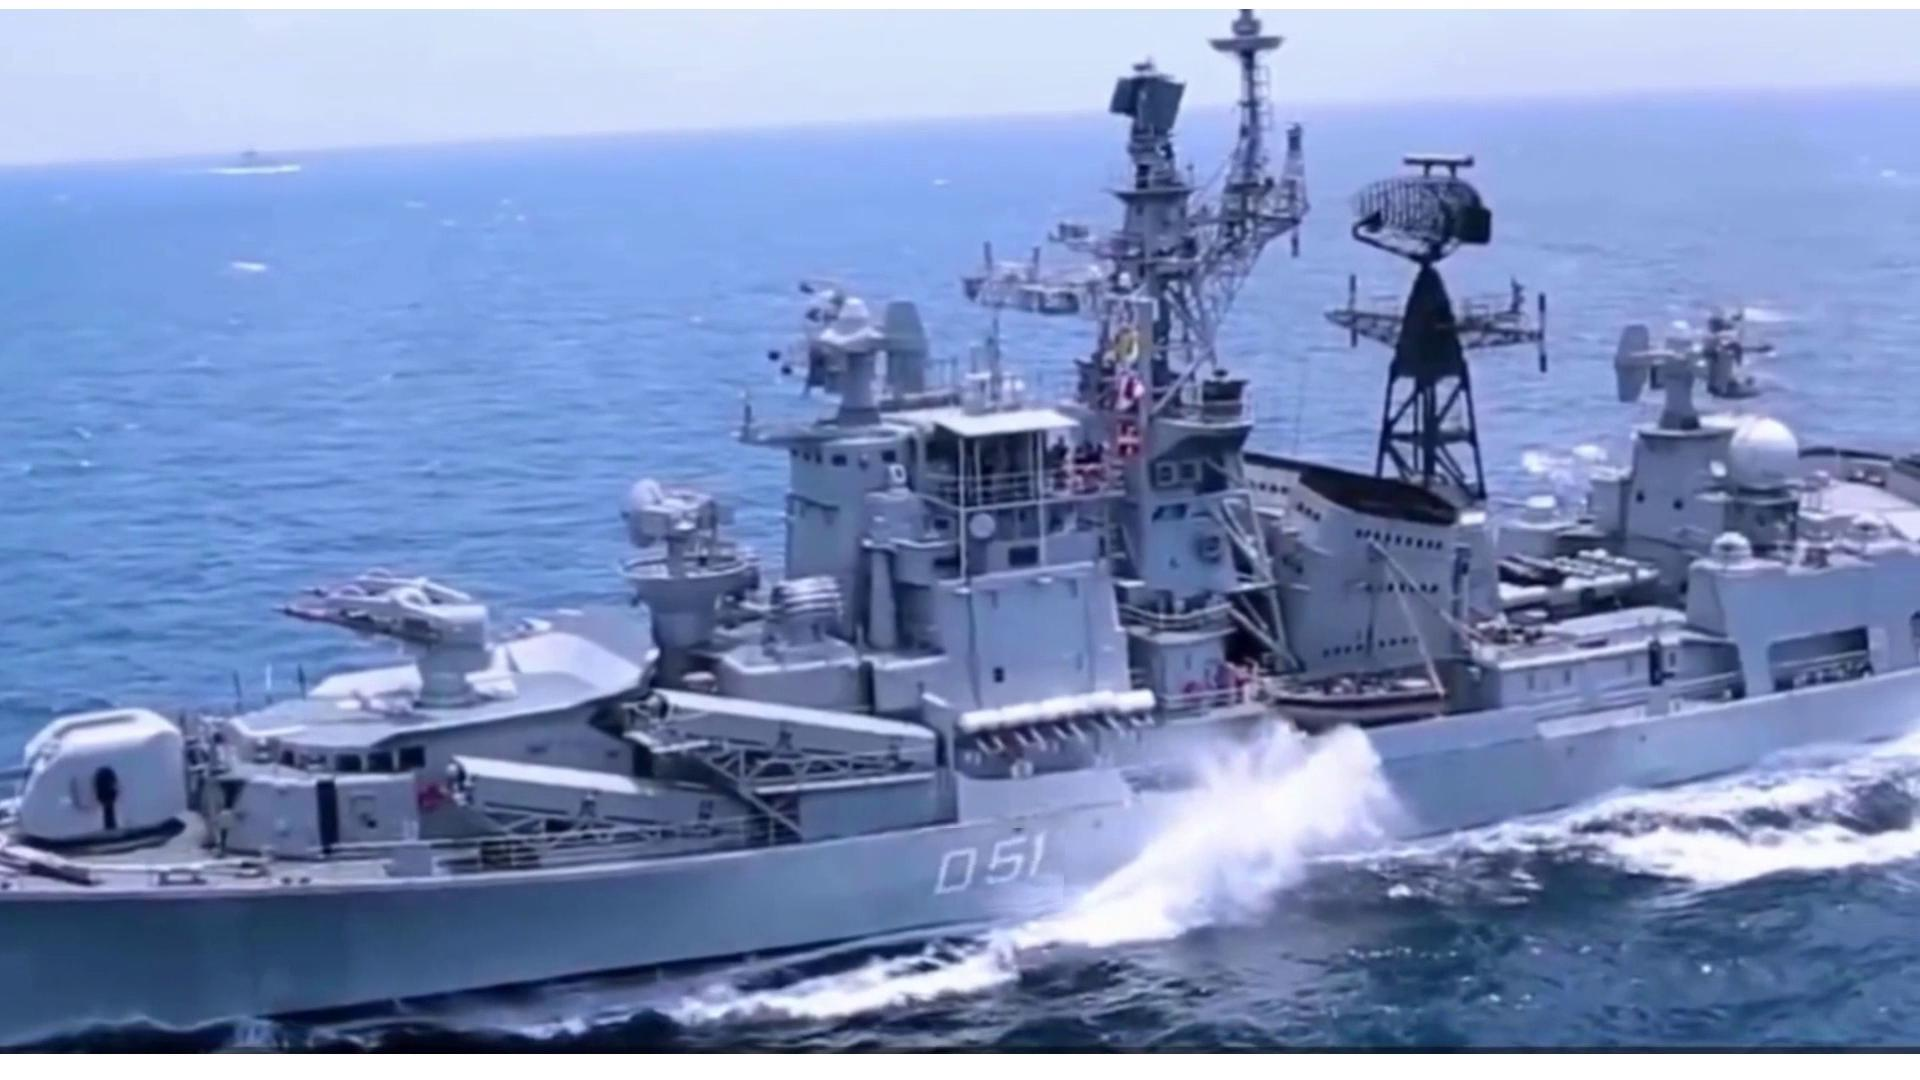OCR: (914, 828, 1065, 914)
